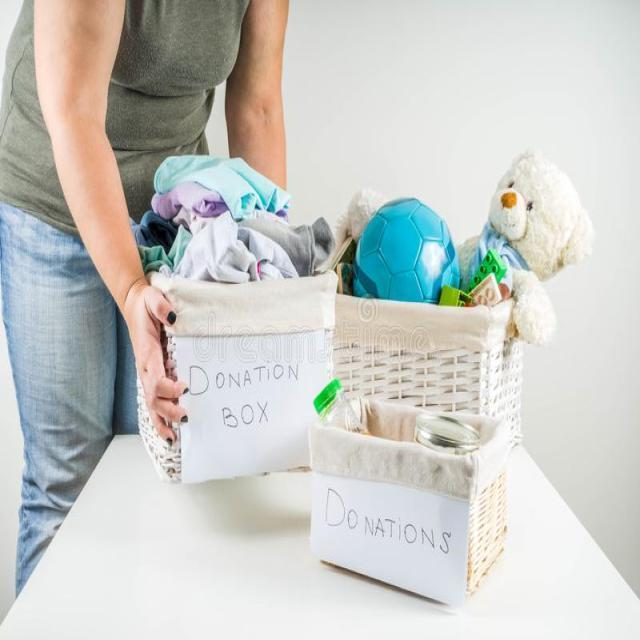clothes: (159, 164, 307, 298)
